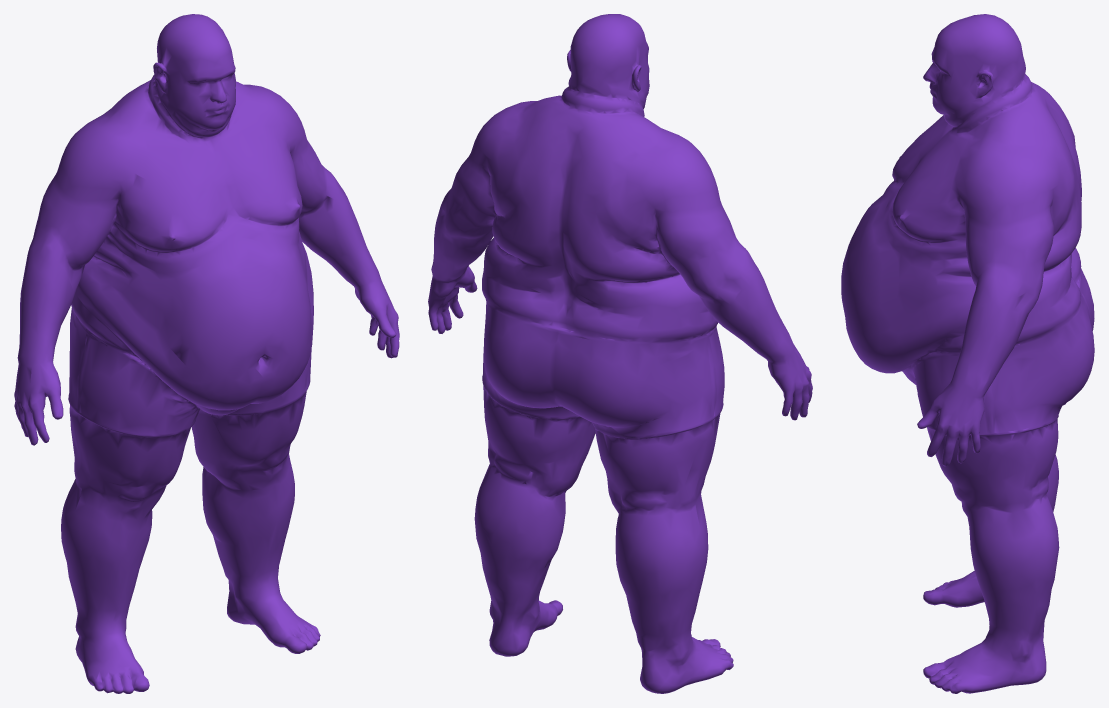
File: zen_m_b11_d1_18000.glb
3 views of the same model, side by side, from view 1: azimuth 30°, elevation 25°; view 2: azimuth 150°, elevation 25°; view 3: azimuth 270°, elevation 25° (orthographic).
Visible parts, largest first — view 1: mesh_node; view 2: mesh_node; view 3: mesh_node.
Part boxes in pixels (box(x1,y1,x2,y2)): mesh_node: box(14, 14, 399, 693); mesh_node: box(428, 14, 812, 693); mesh_node: box(841, 14, 1094, 693).
Bounding box in the file's own units: 1.07 × 1.75 × 0.6418.
